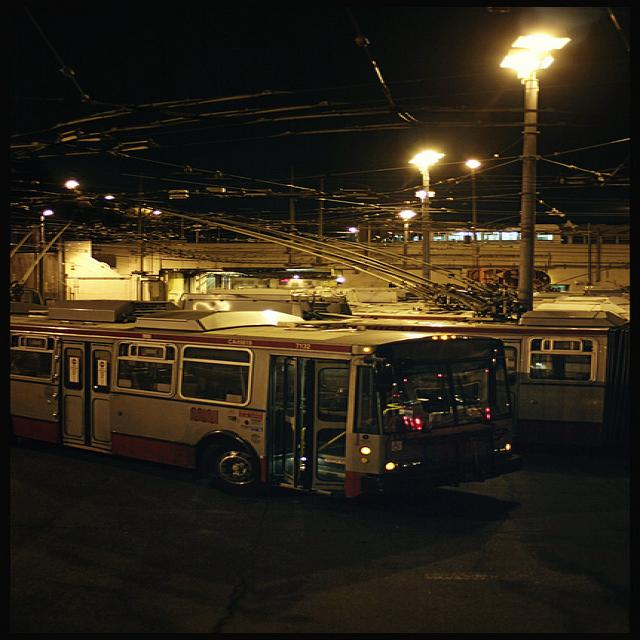Bus: (17, 305, 555, 535)
